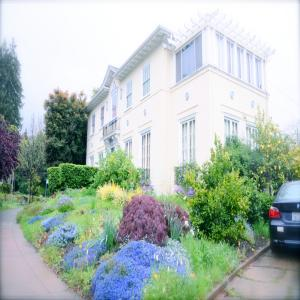Vehicle-registration-plate: (292, 212, 300, 223)
